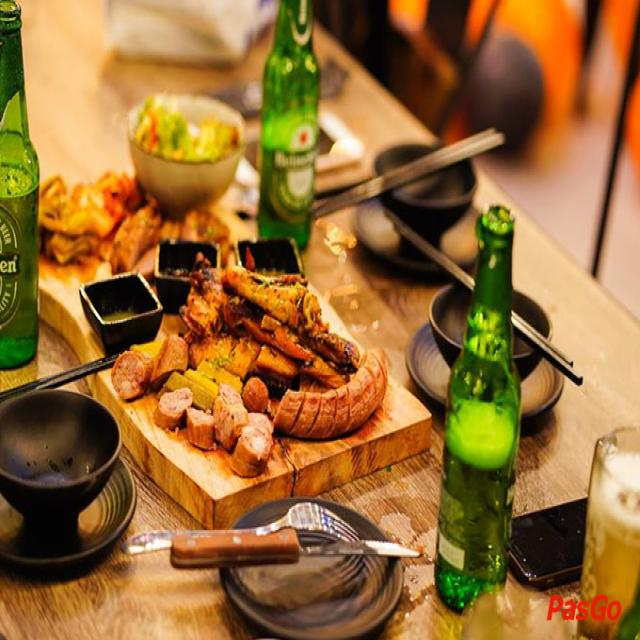bia: (434, 201, 524, 619), (255, 0, 329, 244), (1, 0, 40, 376), (576, 431, 640, 640)
xuc xich nuong: (112, 268, 396, 458)
